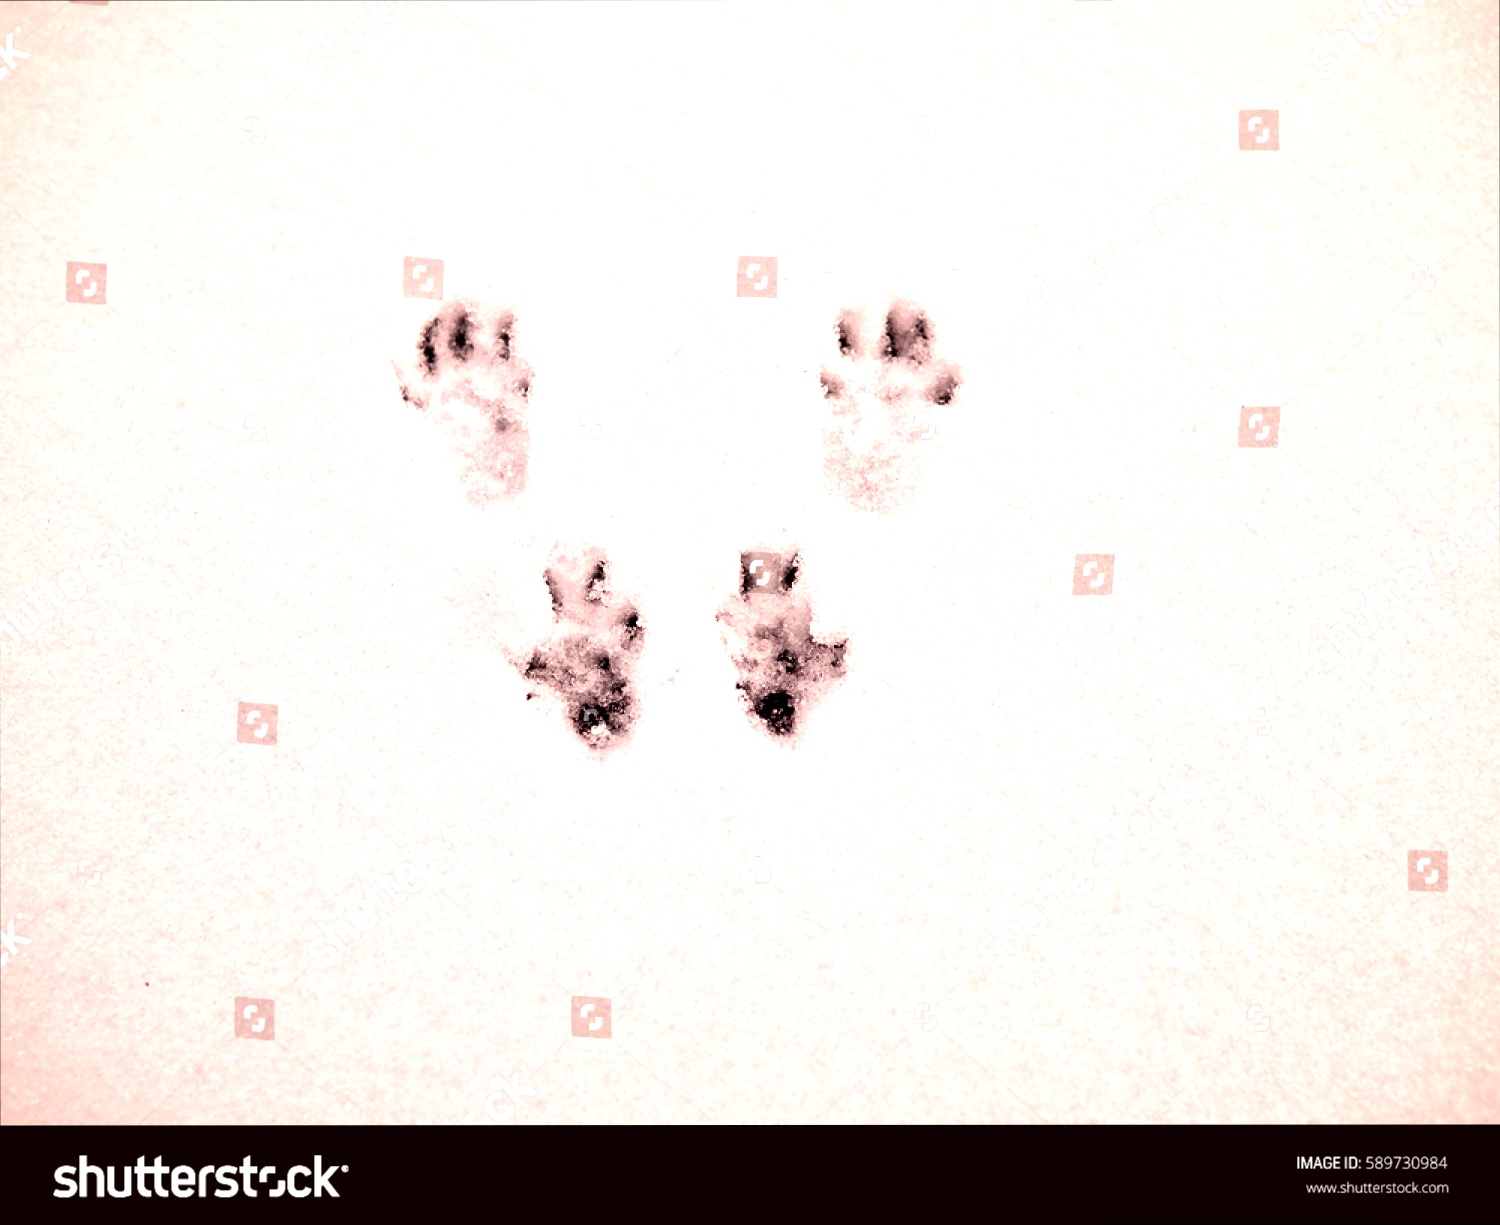ecureuil: (696, 526, 895, 799), (782, 287, 984, 533), (377, 265, 558, 527), (490, 523, 662, 784)
